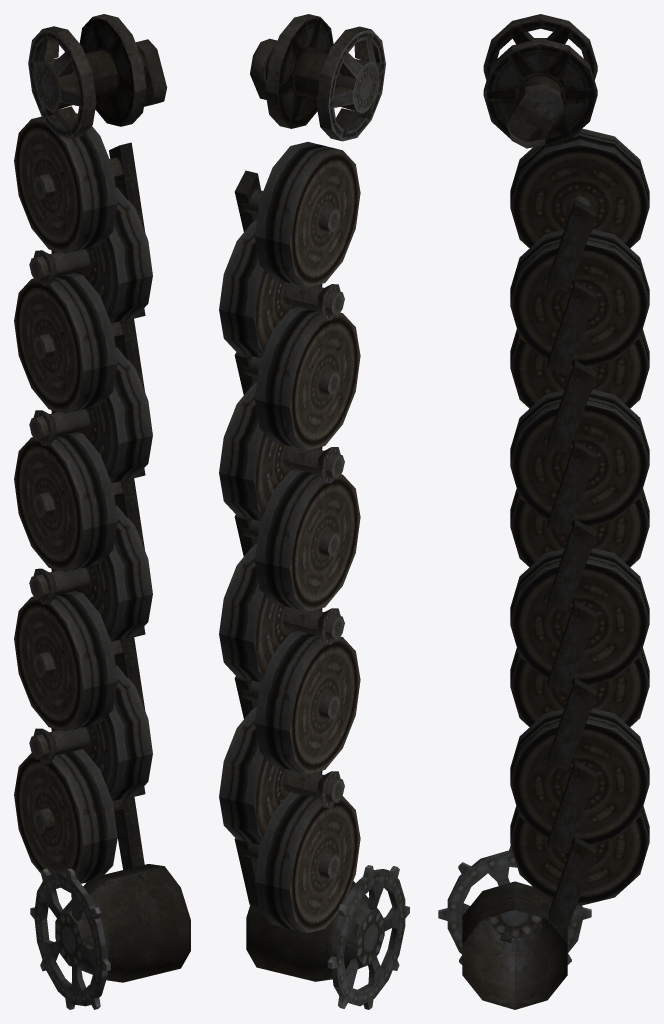
Rendered from ChassisR.obj.
3 views of the same model, side by side, from view 1: azimuth 30°, elevation 25°; view 2: azimuth 150°, elevation 25°; view 3: azimuth 270°, elevation 25° (orthographic).
Visible parts, largest first — view 1: 3D_Object_4; view 2: 3D_Object_4; view 3: 3D_Object_4.
Part boxes in pixels (x1,y1,x2,y2): 3D_Object_4: (14, 14, 190, 1009); 3D_Object_4: (219, 14, 409, 1009); 3D_Object_4: (438, 14, 649, 1009).
Bounding box in the file's own units: 0.7229 × 6.4 × 1.26.
Materials: 1 (1 with a texture image).
